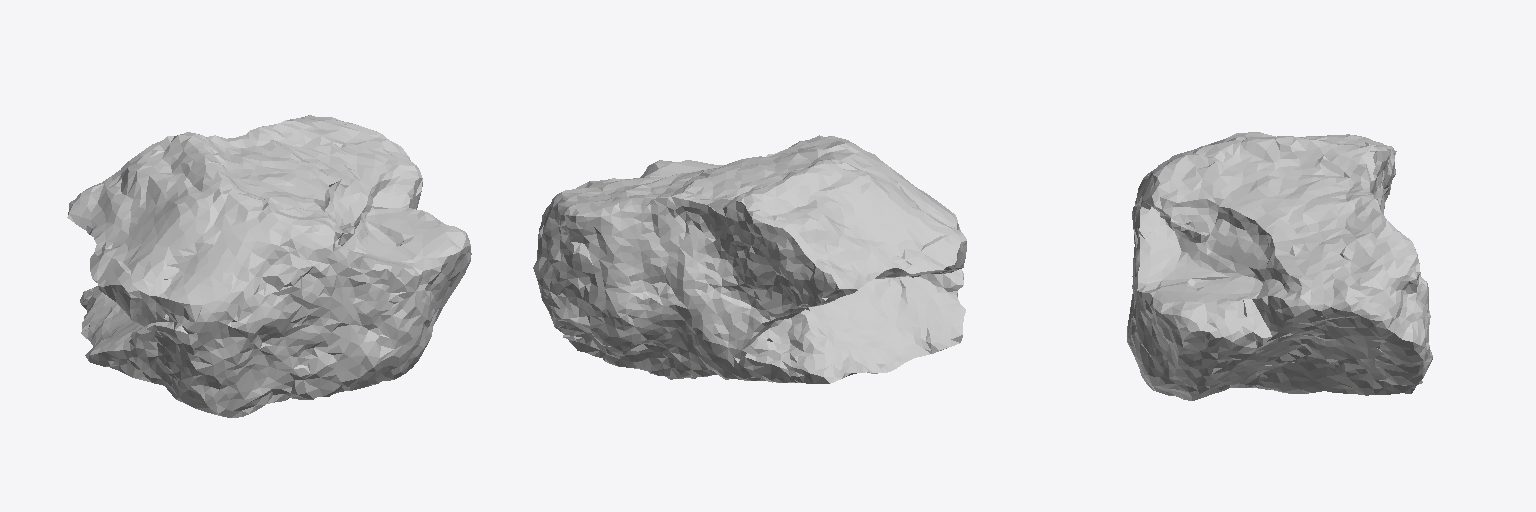
File: rock6.obj
3 views of the same model, side by side, from view 1: azimuth 30°, elevation 25°; view 2: azimuth 150°, elevation 25°; view 3: azimuth 270°, elevation 25° (orthographic).
Parts seen in each view (by area): view 1: moss_rock_12; view 2: moss_rock_12; view 3: moss_rock_12.
Boxes of the visible parts, x1,y1,x2,y2 form: moss_rock_12: [67, 115, 471, 417]; moss_rock_12: [533, 135, 966, 383]; moss_rock_12: [1127, 132, 1432, 400].
Bounding box in the file's own units: 1.97 × 1.02 × 1.44.